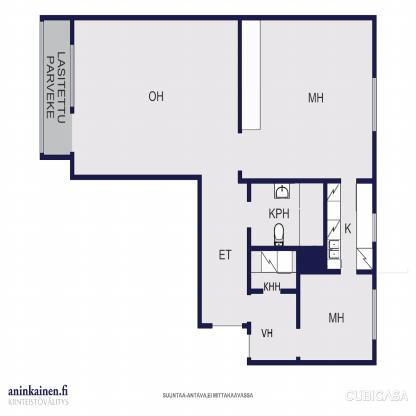window: (40, 21, 44, 153), (70, 45, 74, 106), (372, 78, 376, 132), (372, 290, 376, 340), (372, 213, 378, 243)
zone: (75, 20, 239, 172), (243, 20, 372, 177), (201, 172, 248, 325), (299, 274, 372, 362), (252, 181, 324, 245), (327, 182, 372, 270), (44, 20, 72, 156), (249, 294, 299, 361), (250, 250, 294, 288)
